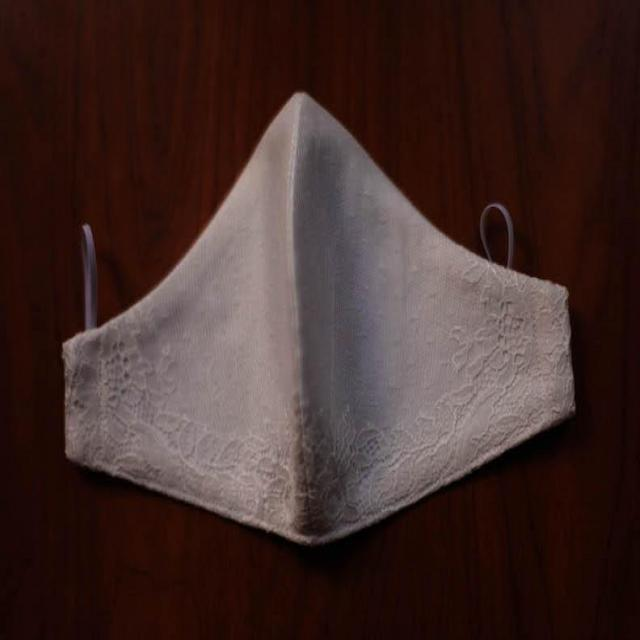face mask: (59, 116, 590, 522)
